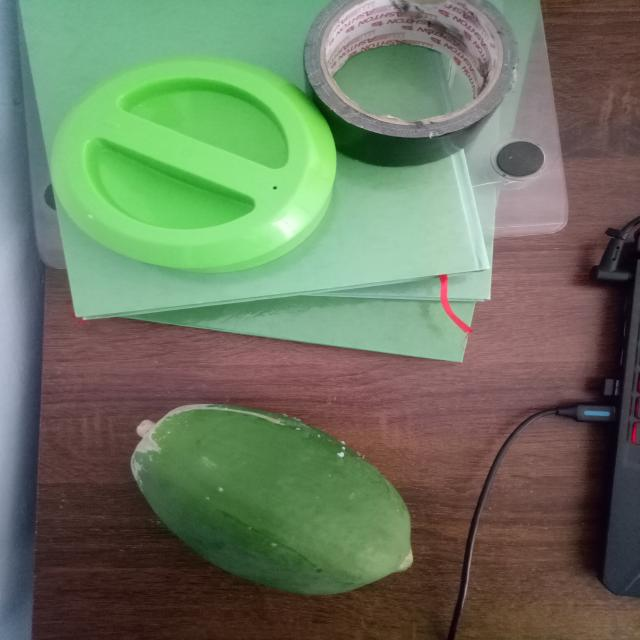Pepaya unrippen: (123, 403, 430, 591)
